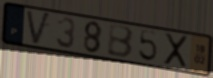3: (55, 16, 76, 51)
5: (137, 28, 159, 64)
8: (82, 20, 104, 55)
B: (107, 24, 136, 61)
V: (25, 9, 53, 48)
X: (163, 32, 190, 70)
